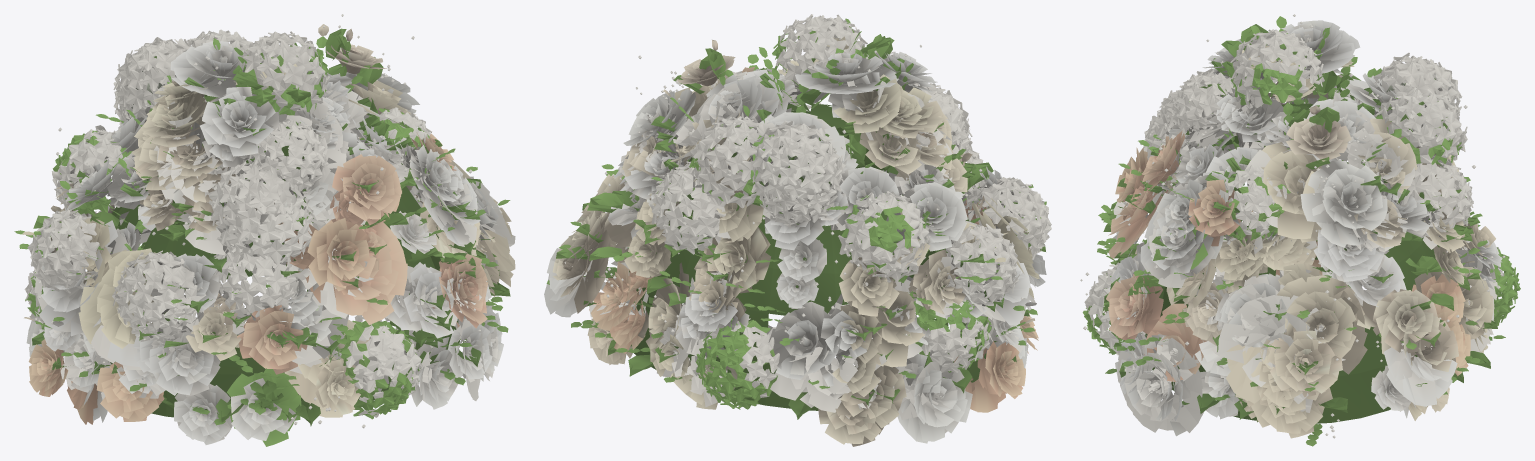
File: kk1002A_mound_c.glb
3 views of the same model, side by side, from view 1: azimuth 30°, elevation 25°; view 2: azimuth 150°, elevation 25°; view 3: azimuth 270°, elevation 25° (orthographic). The views are drawn at different scales.
Parts seen in each view (by area): view 1: petals; view 2: petals; view 3: petals.
Boxes of the visible parts, left/top/right/bottom form: petals: left=14, top=14, right=515, bottom=446; petals: left=544, top=14, right=1051, bottom=446; petals: left=1080, top=14, right=1520, bottom=446.
Bounding box in the file's own units: 0.0154 × 0.0105 × 0.0125.
